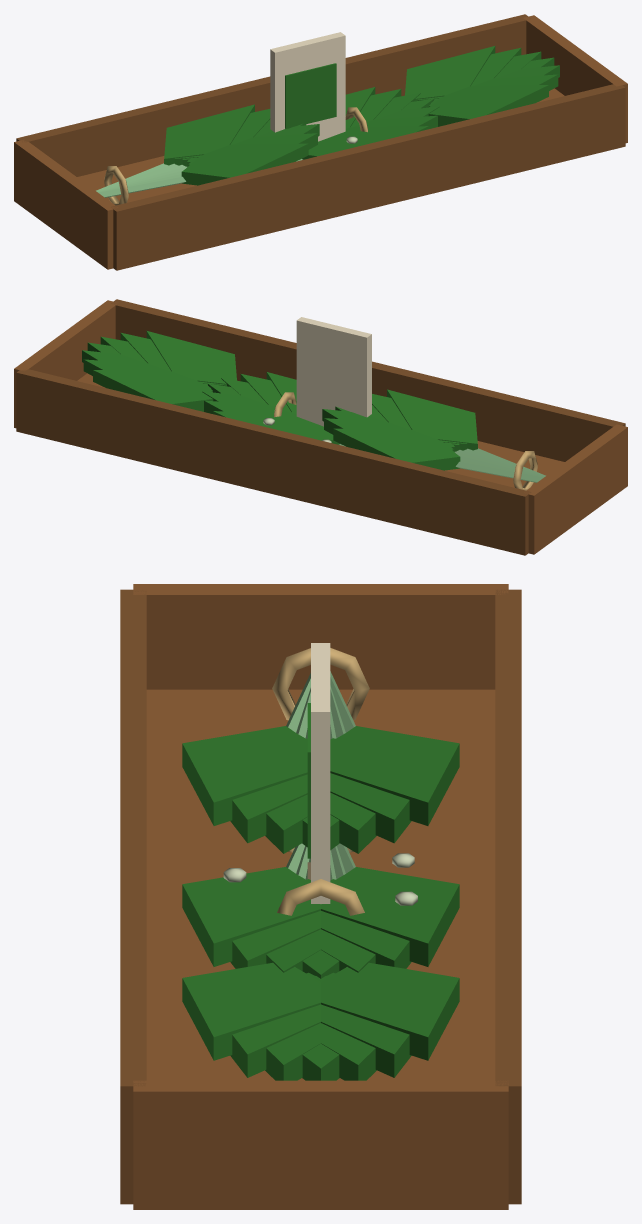
File: Veg_Spinach.fbx
The picture shows the model from 3 angles, top to bottom: view 1: azimuth 30°, elevation 25°; view 2: azimuth 150°, elevation 25°; view 3: azimuth 270°, elevation 25°; orthographic projection. The views are drawn at different scales.
Parts seen in each view (by area): view 1: Veg_Spinach__Stack, Veg_Spinach__Seed, Veg_Spinach; view 2: Veg_Spinach__Stack, Veg_Spinach__Seed, Veg_Spinach; view 3: Veg_Spinach__Stack, Veg_Spinach, Veg_Spinach__Seed, Veg_Spinach__Rotten.
Boxes of the visible parts, <box> form: Veg_Spinach__Stack: <box>14,14,627,270</box>; Veg_Spinach__Seed: <box>270,32,345,141</box>; Veg_Spinach: <box>296,87,439,161</box>; Veg_Spinach__Stack: <box>14,299,627,555</box>; Veg_Spinach__Seed: <box>296,317,371,426</box>; Veg_Spinach: <box>202,372,345,446</box>; Veg_Spinach__Stack: <box>120,584,521,1209</box>; Veg_Spinach: <box>182,843,459,978</box>; Veg_Spinach__Seed: <box>307,643,330,903</box>; Veg_Spinach__Rotten: <box>223,853,417,905</box>.
Size of the model in its own units: 0.3688 by 0.09 by 0.1231.
